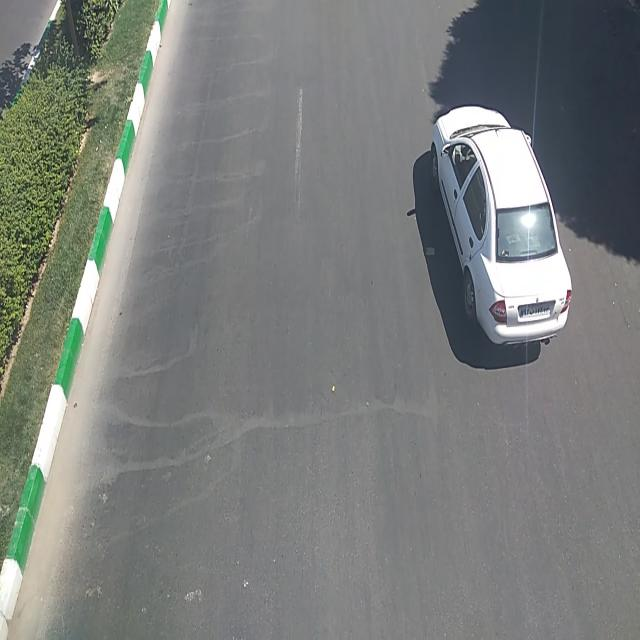car: (428, 108, 572, 344)
